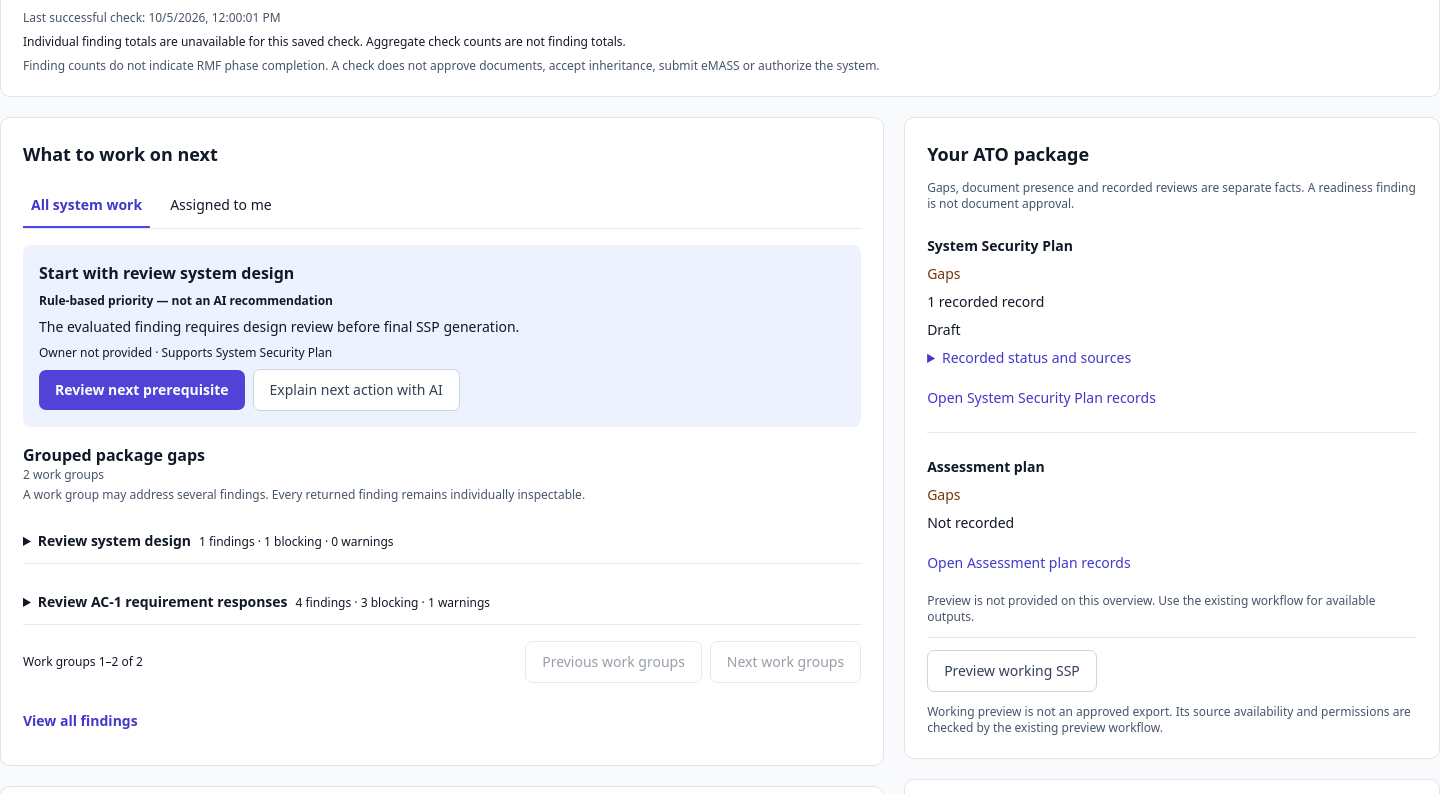
Scenario: RMF journey overview › presents AI explanation as a sourced proposal and does not save phase or accepted records
The image size is (1440, 794).
(page scrolled)
Expected: the text "2 work groups" is shown, [23,466,104,482]
Click the button "Explain next action with AI". click: (356, 390)
box: [253,368,460,410]
(page scrolled)
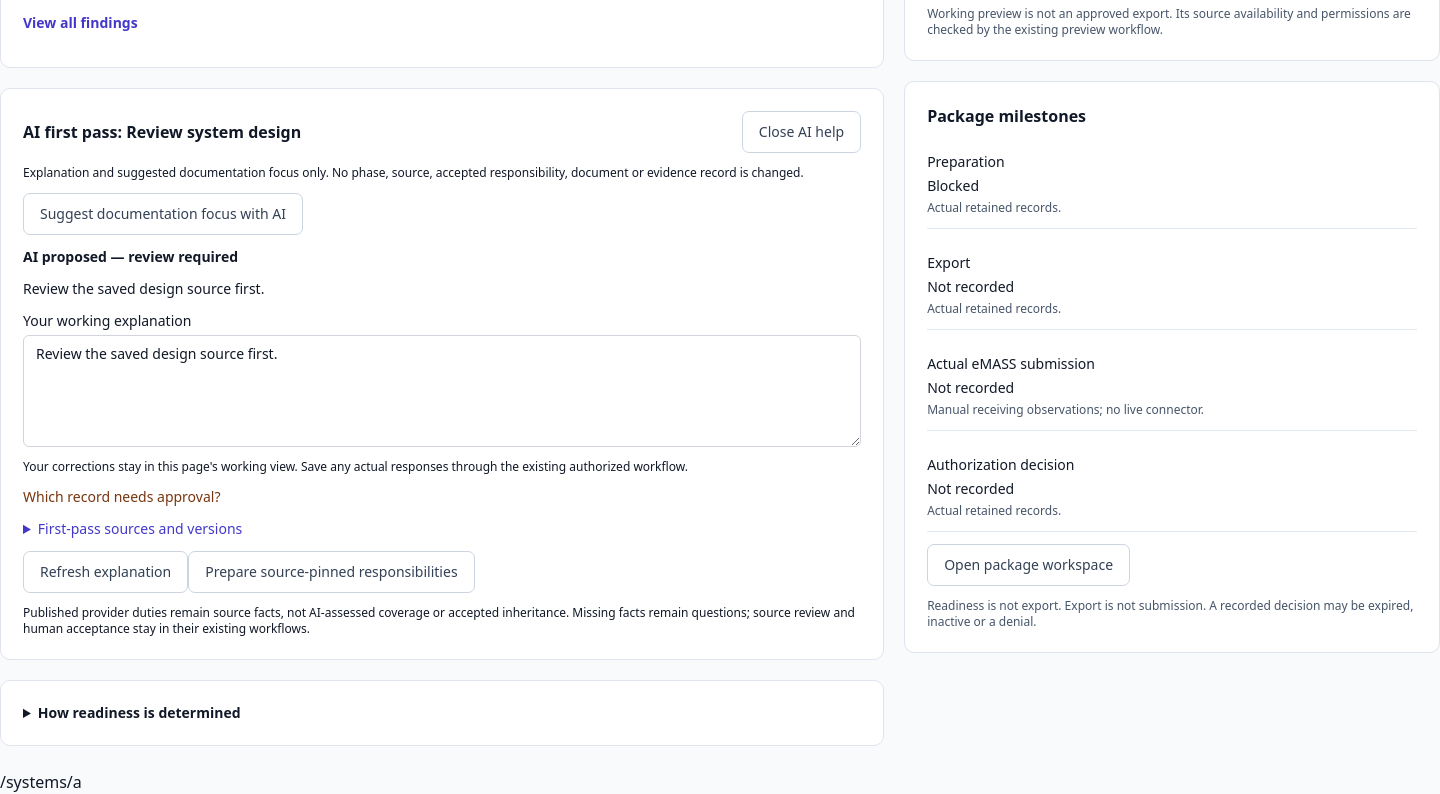
Now the text "Review the saved design source first." is shown, box [23,278,264,298]
Now the heading "AI proposed — review required" is shown, box [23,246,238,266]
Now the text "Which record needs approval?" is shown, box [23,486,220,506]
